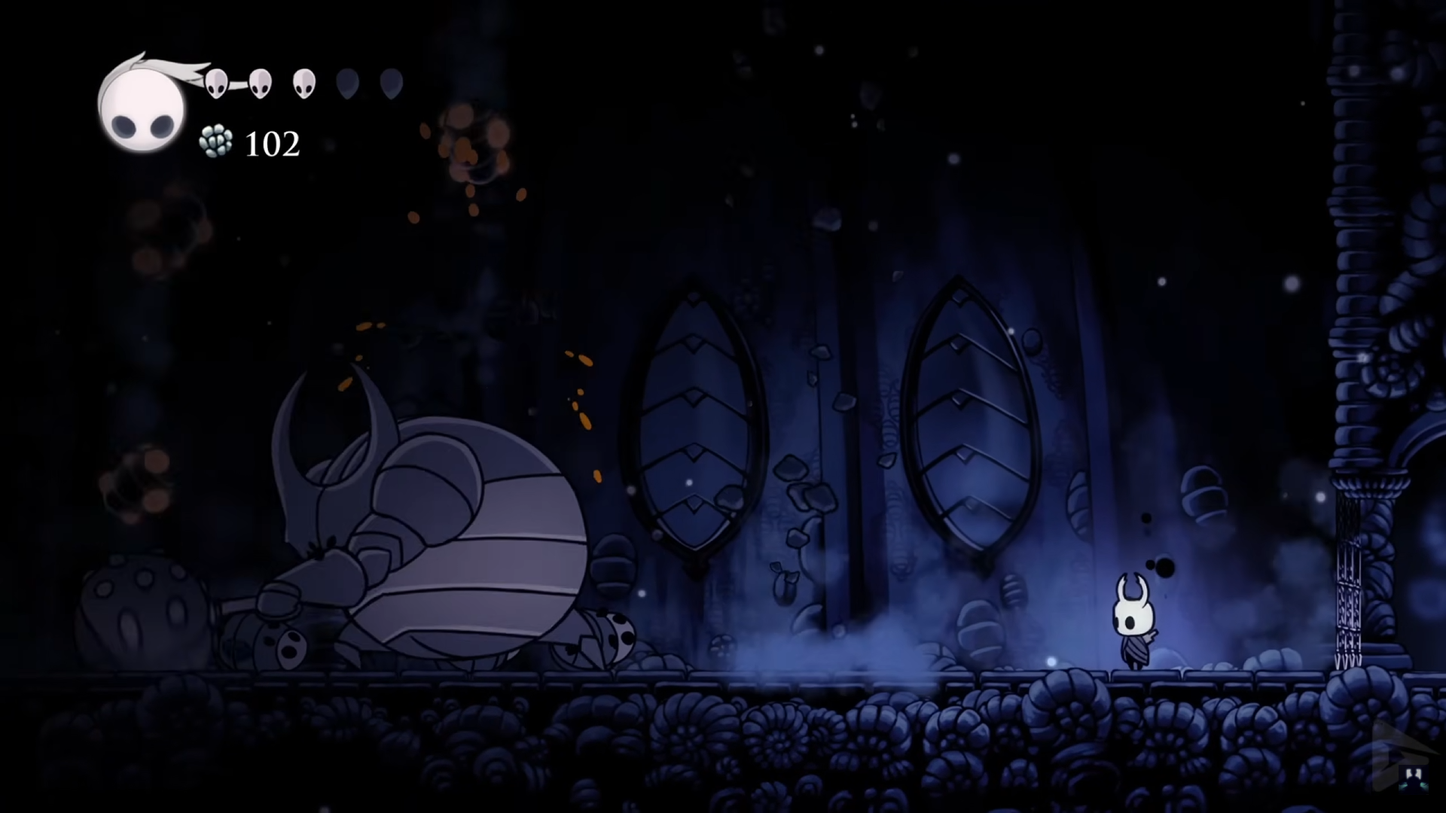HK: (1106, 567, 1164, 672)
